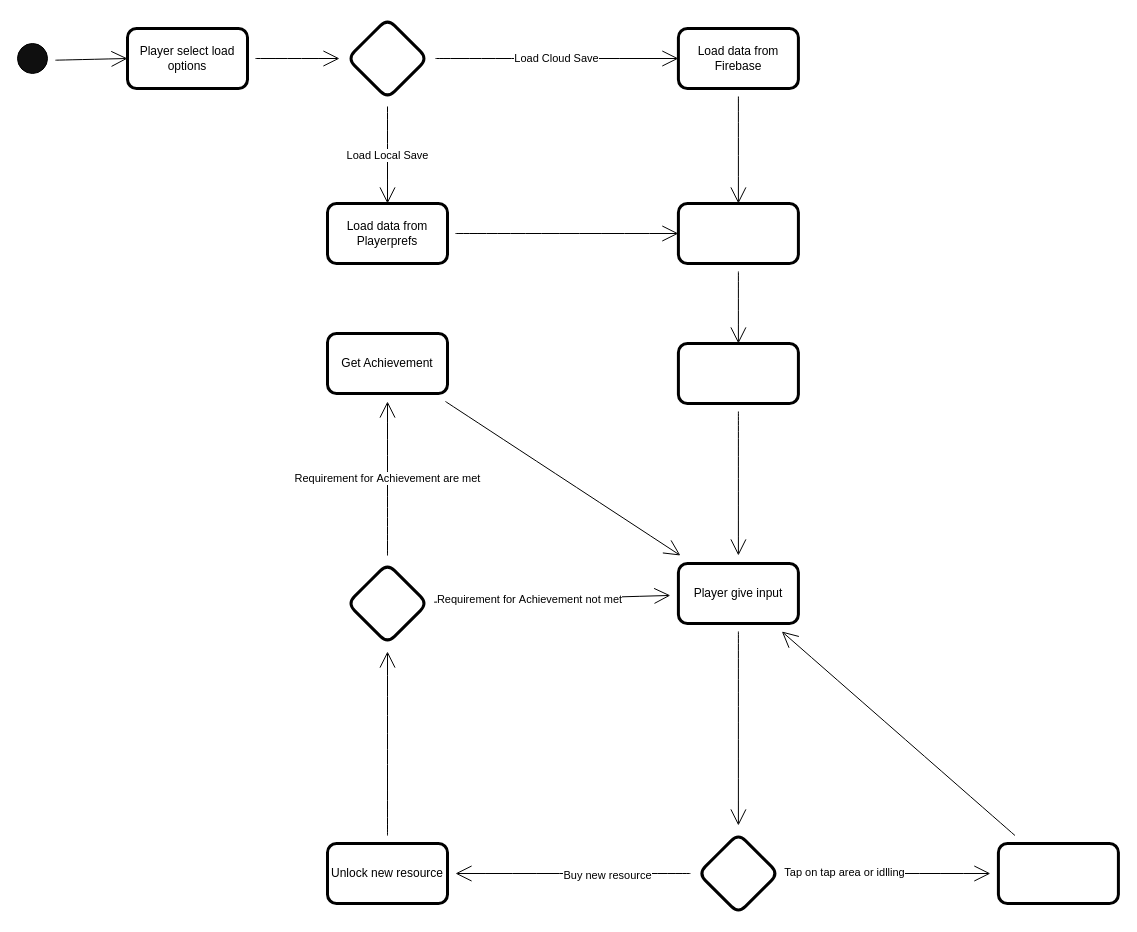
Image size: 1137x932. Some labels were removed from this diagram. Each missing label, with the centre of its shape:
Enter Gameplay: the point at 737,233
Get Coin based from basic resource by idling: the point at 737,373
Get coin based on unlocked resource: the point at 1057,873
